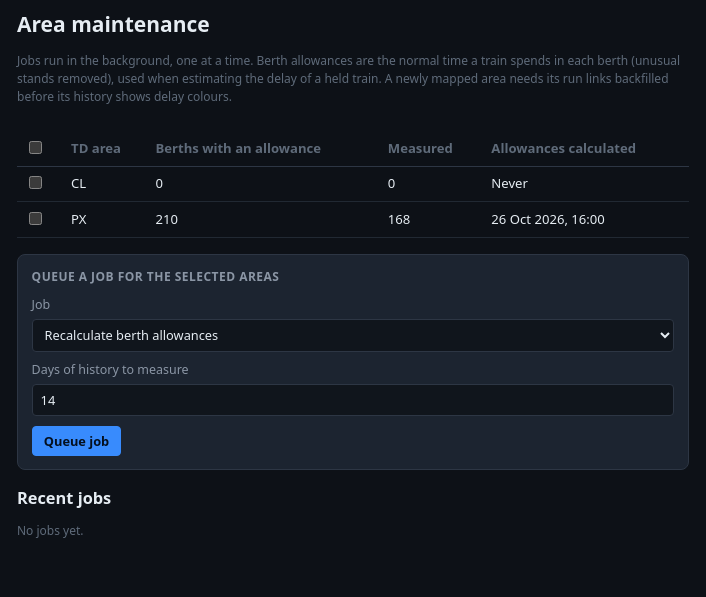
Test: AdminMaintenancePage › won't queue a job with no area chosen
Expected: the text "PX" is shown, x1=63 y1=202 x2=147 y2=237
Click the button "Queue job": (76, 441) x1=32 y1=426 x2=121 y2=456
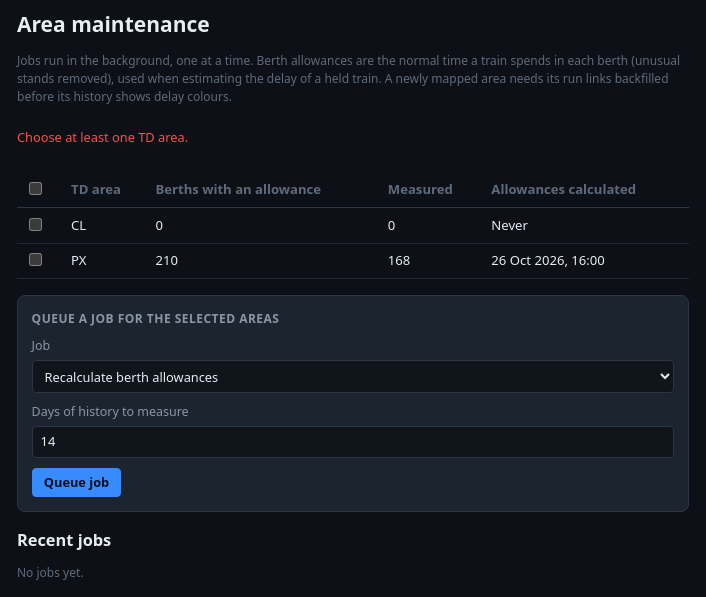
Expected: the message reads "Choose at least one TD area.", x1=17 y1=128 x2=188 y2=146
